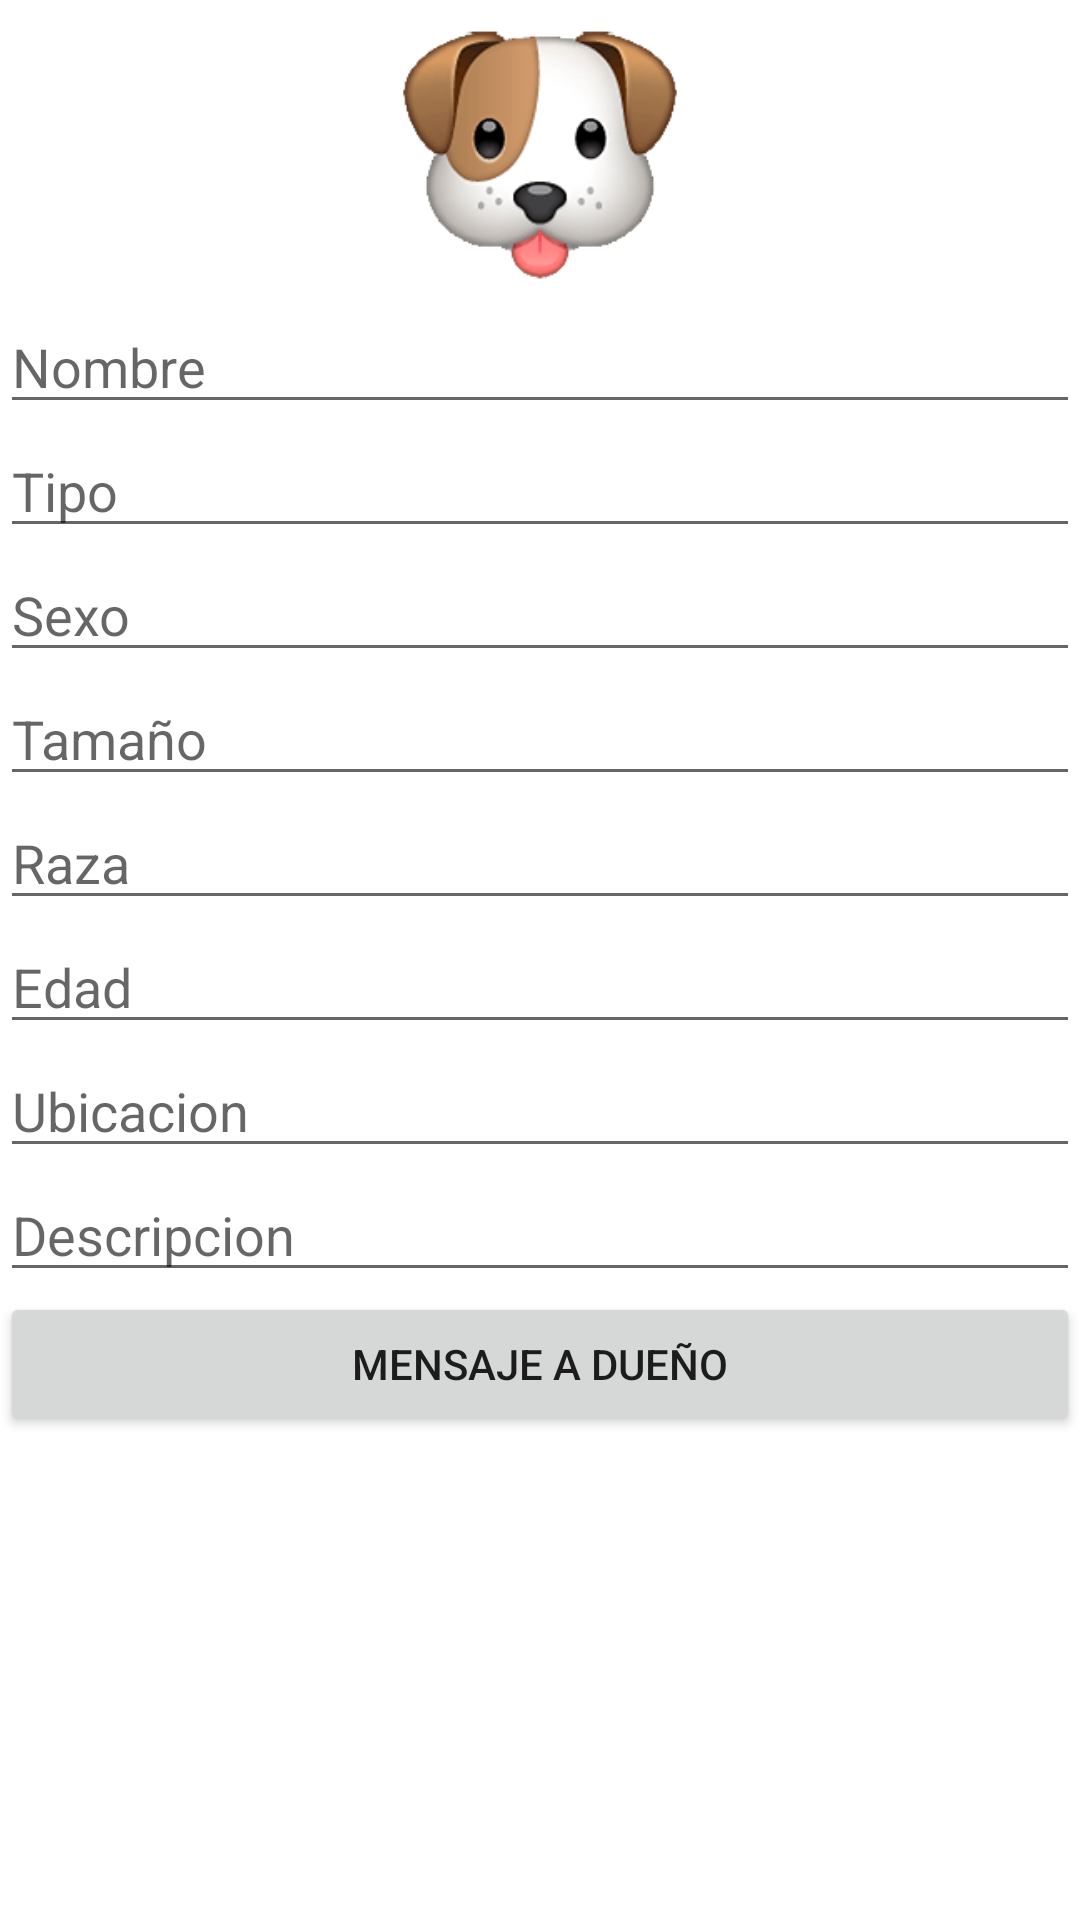

Locate icon controls on the screen. Image size 1080px x 1920px, boxes as (x1, y1, x2, y2).
dog: (403, 31, 677, 279)
